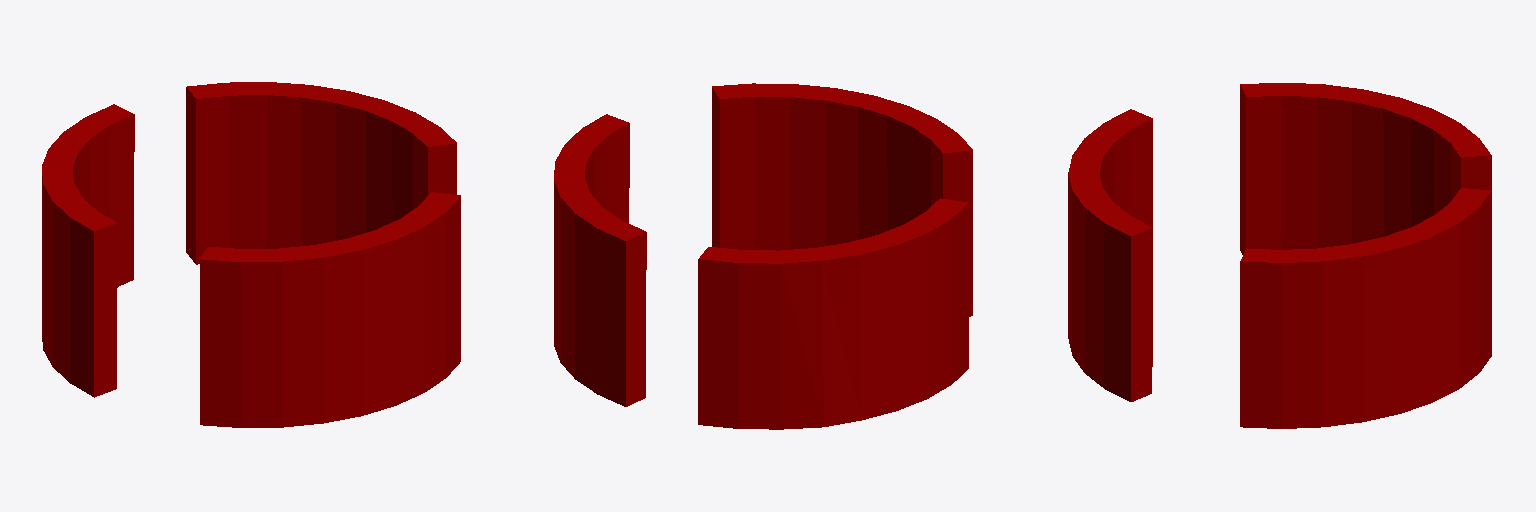
Rendered from salarellena2.obj.
The picture shows the model from 3 angles: view 1: azimuth 30°, elevation 25°; view 2: azimuth 150°, elevation 25°; view 3: azimuth 270°, elevation 25°; orthographic projection.
Parts seen in each view (by area): view 1: Cylinder; view 2: Cylinder; view 3: Cylinder.
Part boxes in pixels (bbox=[...]): Cylinder: bbox=[42, 82, 460, 427]; Cylinder: bbox=[554, 83, 972, 429]; Cylinder: bbox=[1068, 83, 1491, 428].
Bounding box in the file's own units: 14 × 6.01 × 13.87.